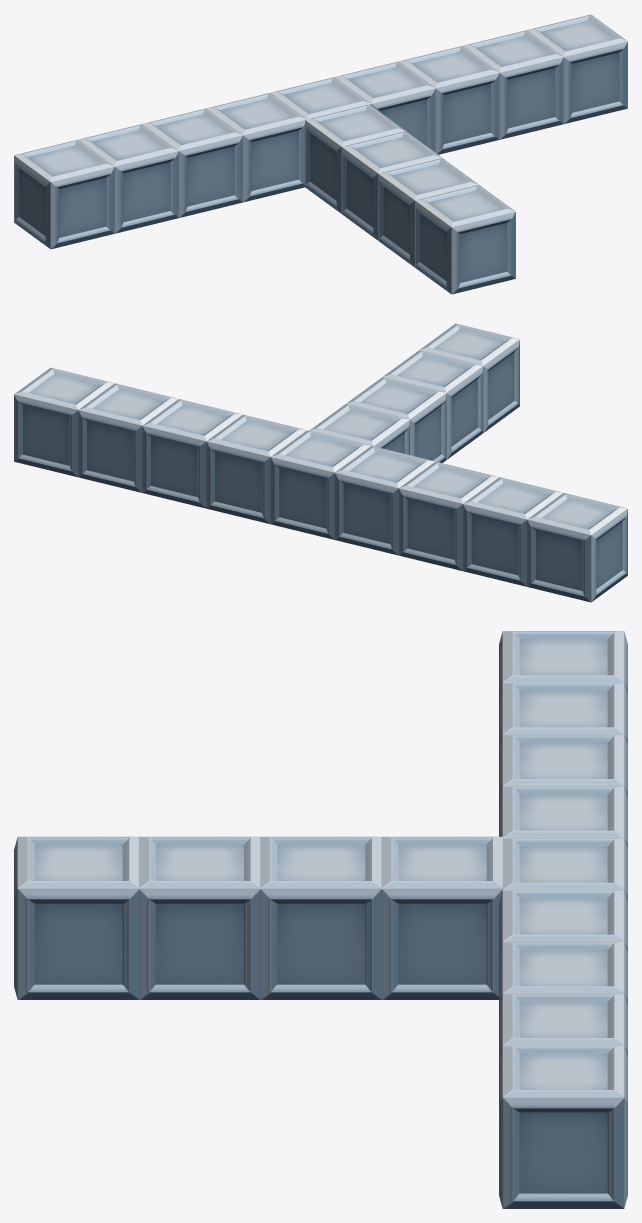
The model's file is PrototypeT5.fbx.
3 views of the same model, one above another, from view 1: azimuth 30°, elevation 25°; view 2: azimuth 150°, elevation 25°; view 3: azimuth 270°, elevation 25° (orthographic). The views are drawn at different scales.
Visible parts, largest first — view 1: polySurface1; view 2: polySurface1; view 3: polySurface1.
Part boxes in pixels (box(x1,y1,x2,y2)): polySurface1: box(14, 14, 627, 294); polySurface1: box(14, 323, 627, 602); polySurface1: box(14, 631, 627, 1208).
Size of the model in its own units: 7.88 by 0.9244 by 4.35.
2 materials, 1 textured.
